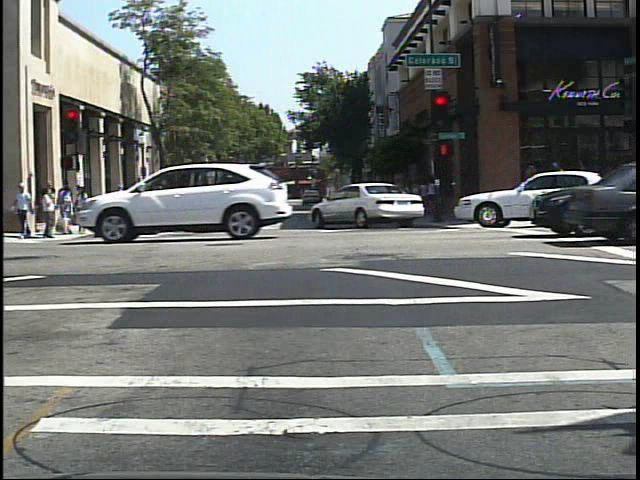person: (111, 180, 131, 225)
